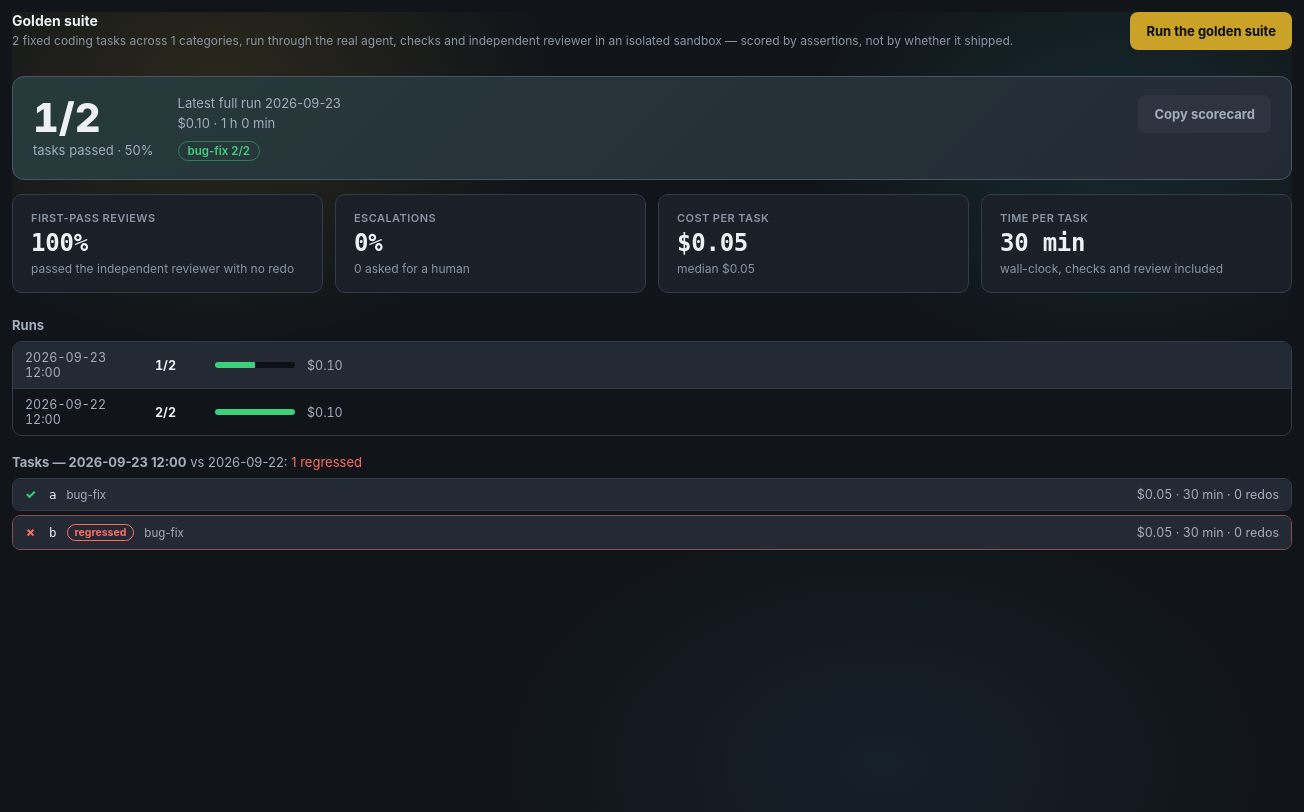
Test: EvalsPanel › a failed task opens to its failing assertion and diff
This screenshot has width=1304, height=812.
Click the button with class "evals-task-row" that starts with "regressed": (100, 532) [13,516,1291,549]
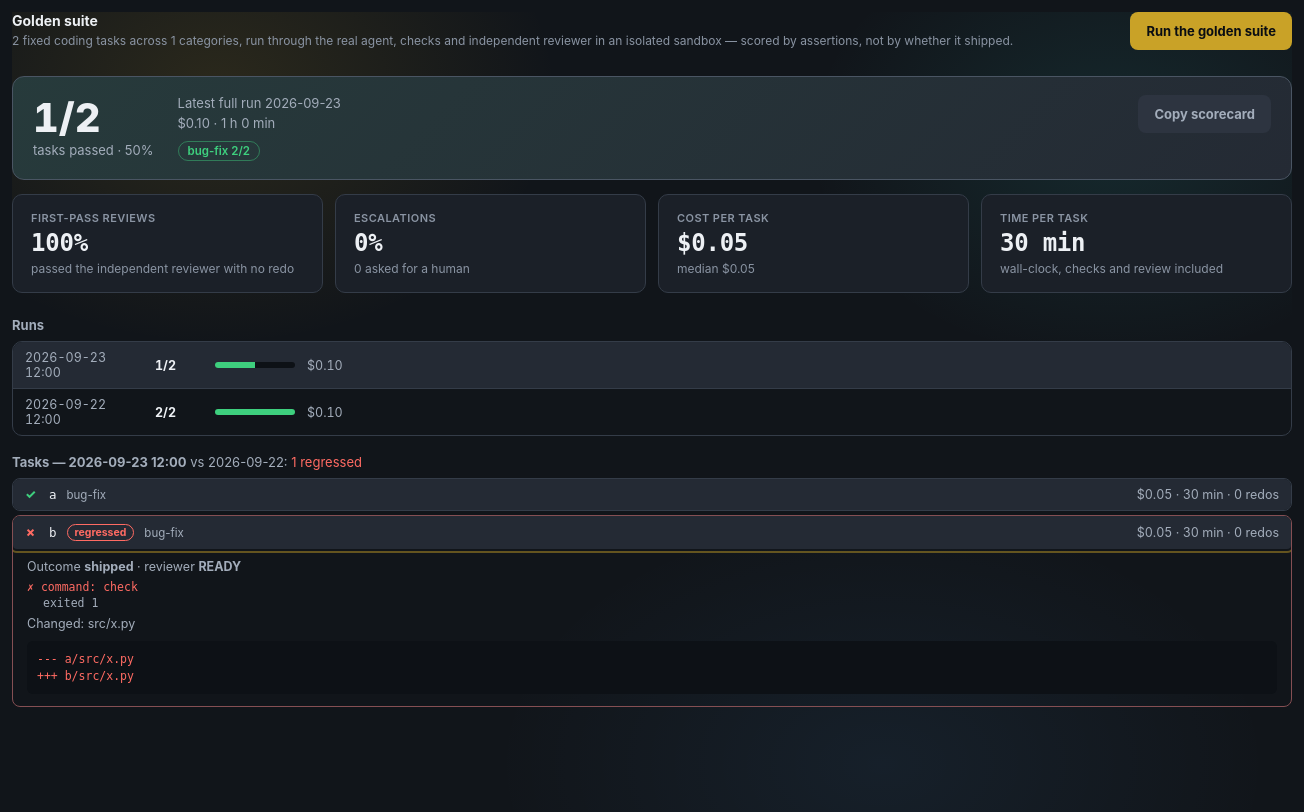
Expected: the text "exited 1" is shown, [43,596,98,610]
Expected: the text "--- a/src/x.py +++ b/src/x.py" is shown, [27,641,1277,694]
